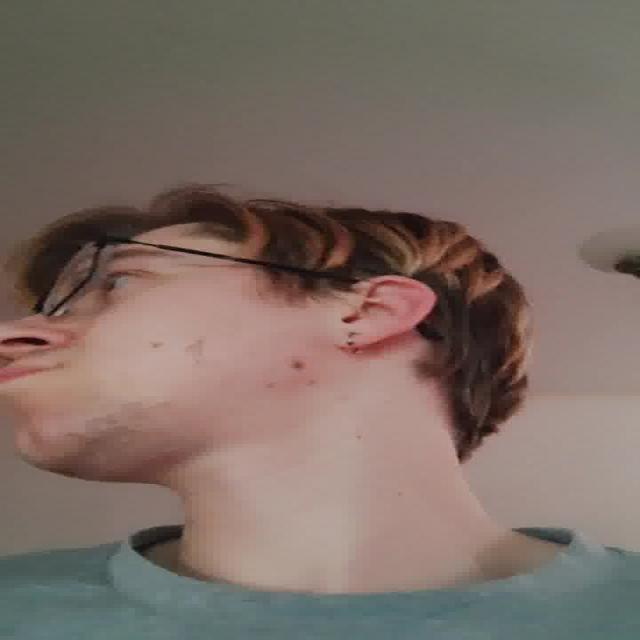earlobe: (335, 330, 389, 351)
eye: (99, 268, 145, 298)
nose: (0, 339, 42, 368)
wholeear: (337, 274, 440, 350)
